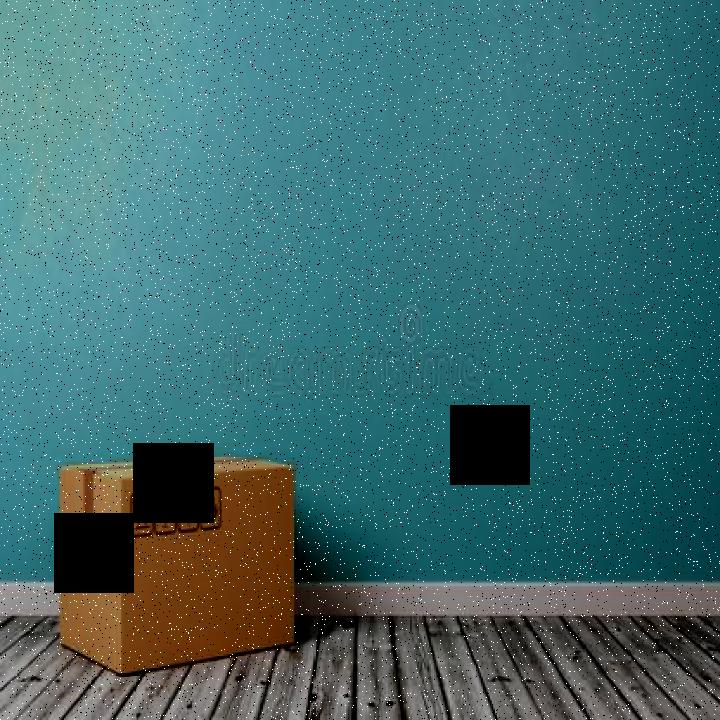box: (48, 451, 310, 679)
